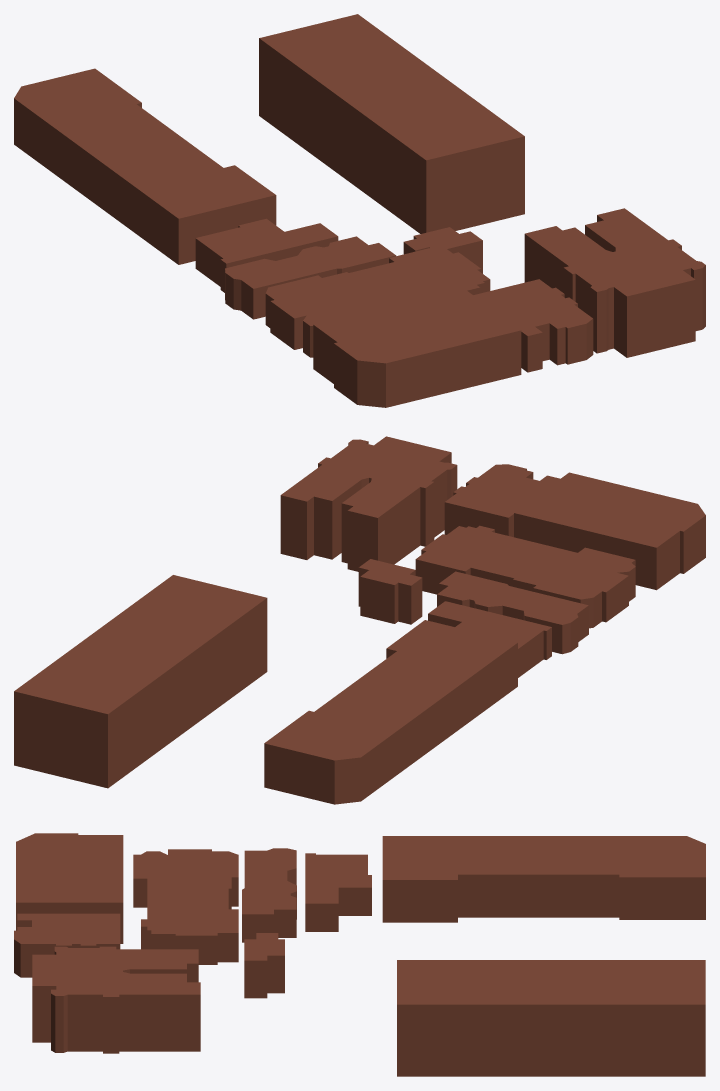
Rendered from basic_buildings_632_2.fbx.
3 views of the same model, one above another, from view 1: azimuth 30°, elevation 25°; view 2: azimuth 150°, elevation 25°; view 3: azimuth 270°, elevation 25° (orthographic). The views are drawn at different scales.
Visible parts, largest first — view 1: Model; view 2: Model; view 3: Model.
Boxes of the visible parts, x1,y1,x2,y2 form: Model: (14,14,705,407); Model: (14,436,705,804); Model: (14,833,705,1076).
Size of the model in its own units: 2472 by 568 by 4408.
